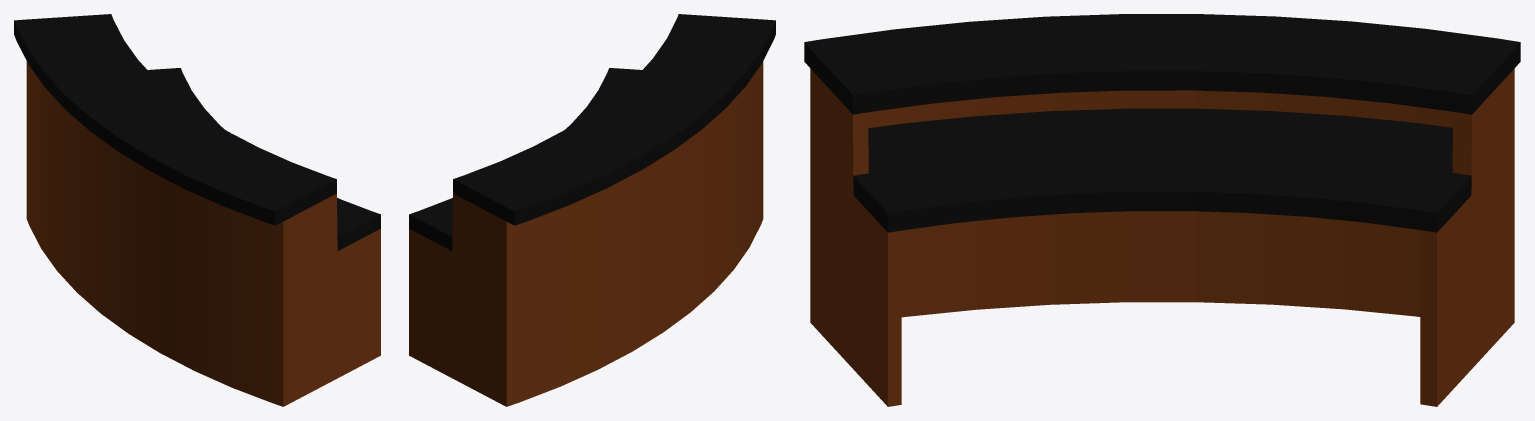
The model's file is Loby_FrontDesk.FBX.
3 views of the same model, side by side, from view 1: azimuth 30°, elevation 25°; view 2: azimuth 150°, elevation 25°; view 3: azimuth 270°, elevation 25° (orthographic). The views are drawn at different scales.
Parts seen in each view (by area): view 1: Box001; view 2: Box001; view 3: Box001.
Part boxes in pixels (x1,y1,x2,y2): Box001: [14, 14, 380, 406]; Box001: [409, 14, 775, 406]; Box001: [804, 14, 1520, 406].
Size of the model in its own units: 1.32 by 1.41 by 3.35.
